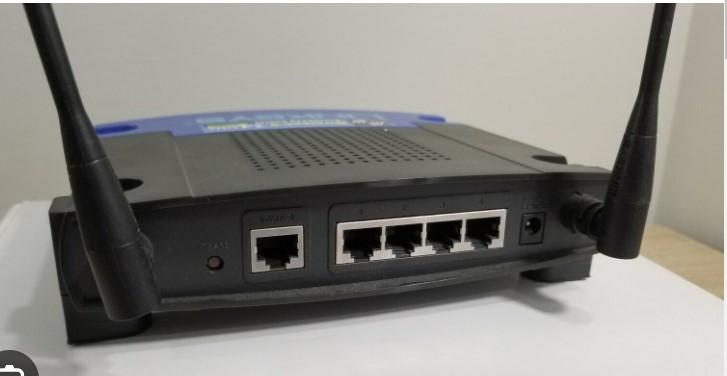Router: (24, 3, 678, 347)
